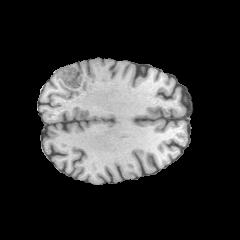glioma: (53, 65, 94, 95)
